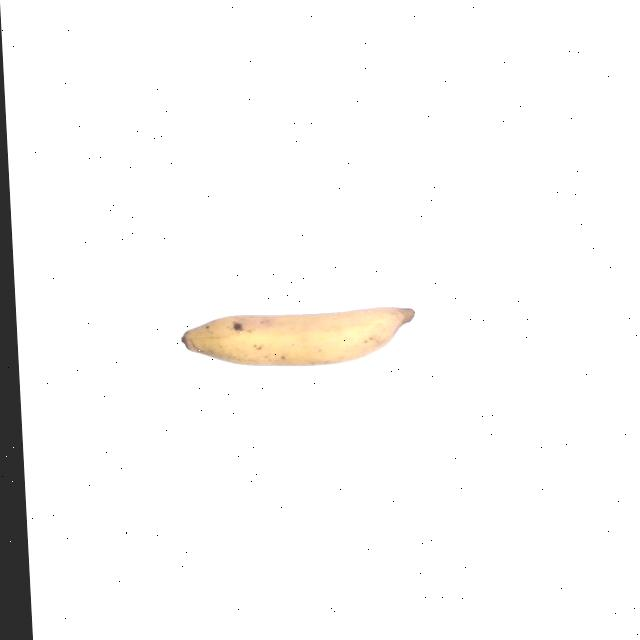banana: (176, 304, 421, 369)
